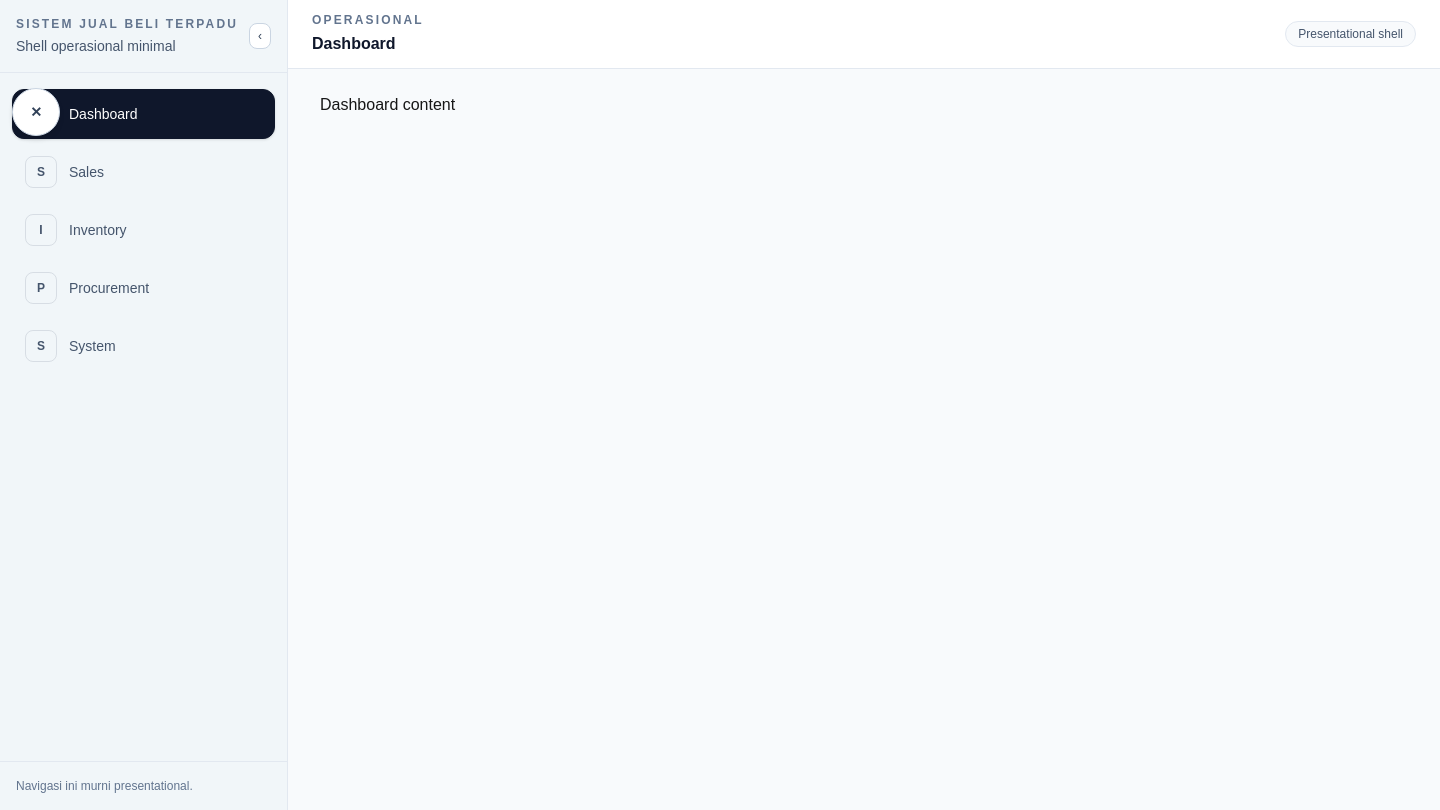
Test: AppShell › hides sidebar when floating toggle is clicked
Expected: the text "Sistem Jual Beli Terpadu" is shown, [16,16,238,32]
Step 1. Press the mouse on the button named "Hide sidebar" → (36, 112), box [12,88,60,136]
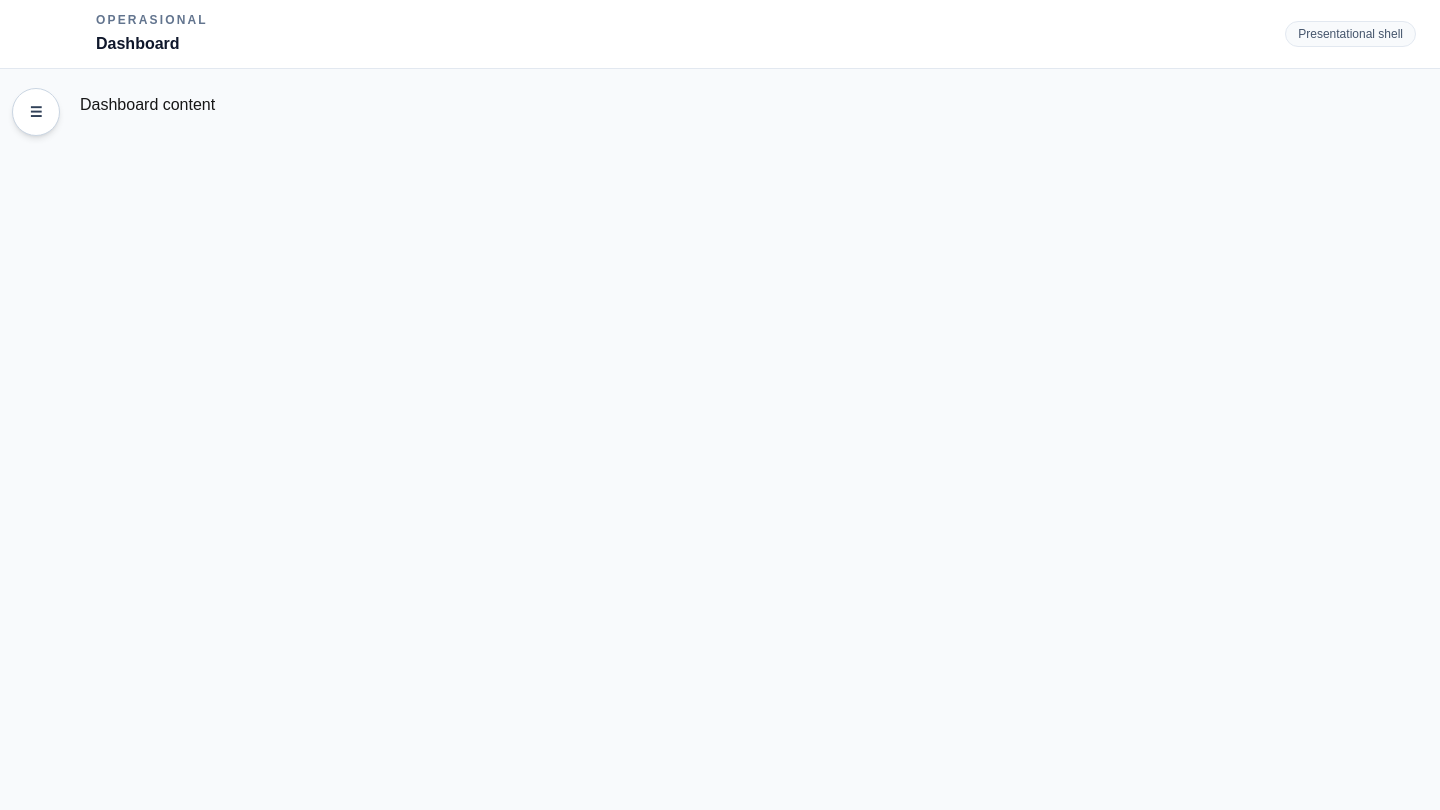
Expected: the text "Sistem Jual Beli Terpadu" is gone
Expected: the button named "Show sidebar" is shown, [12,88,60,136]
